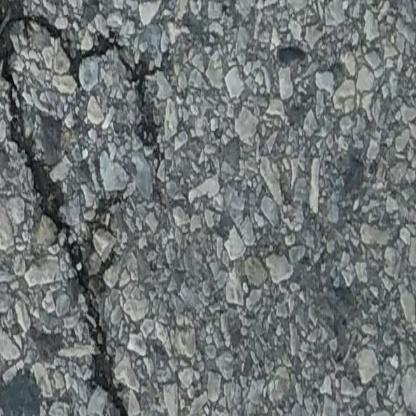Cracks: (0, 0, 181, 416)
